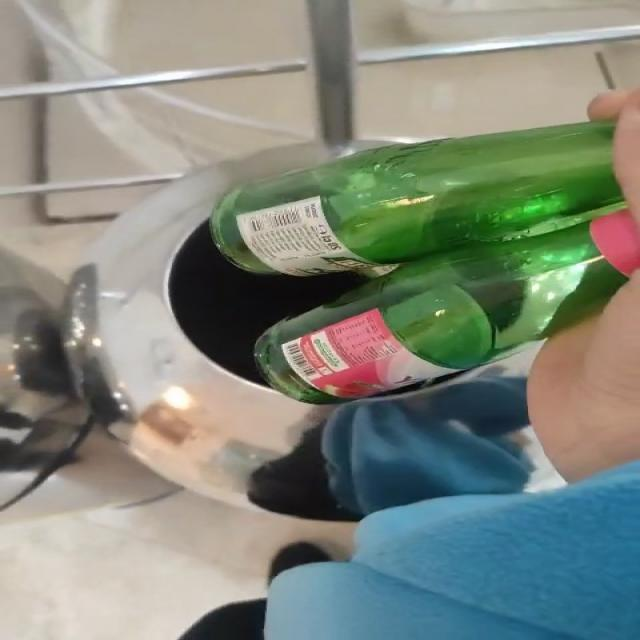Glass: (209, 122, 627, 404)
